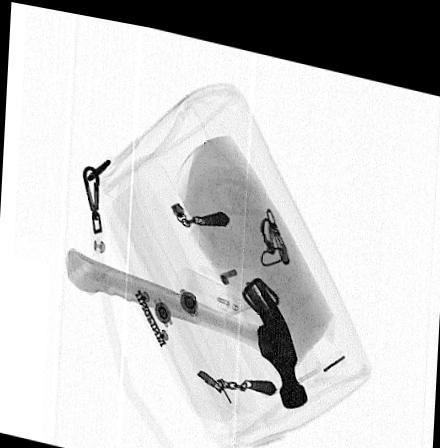Hammer: (62, 245, 307, 398)
